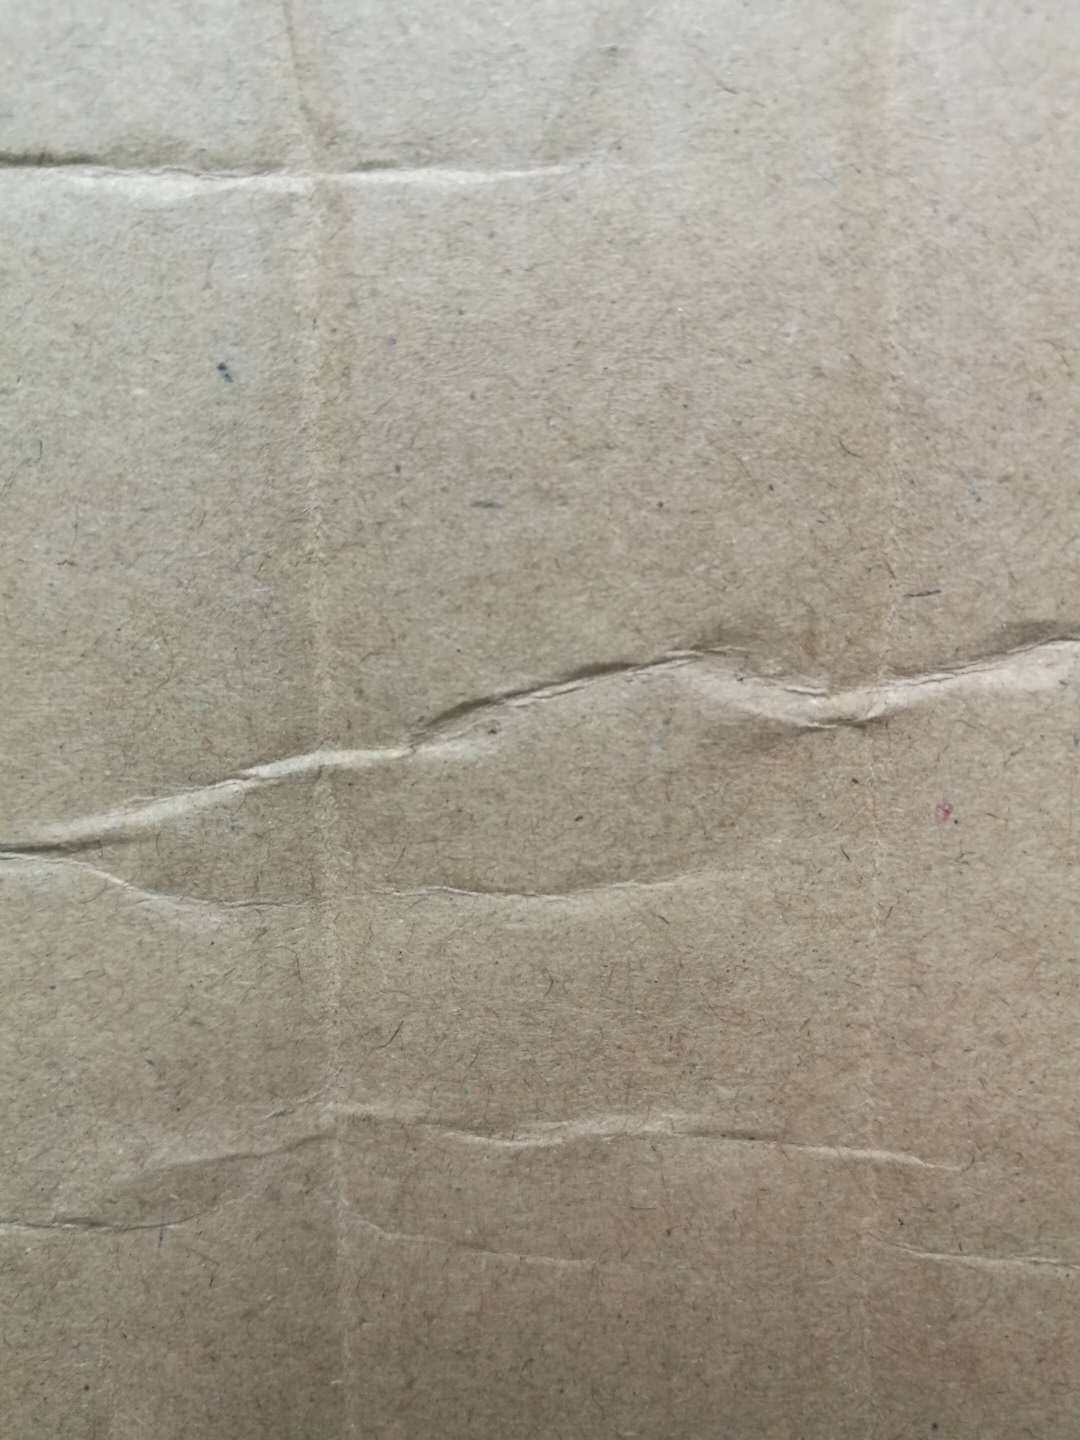defect: (2, 562, 1080, 957), (223, 2, 442, 1440), (2, 1053, 1080, 1297), (794, 1, 952, 1440), (1, 96, 665, 236)
